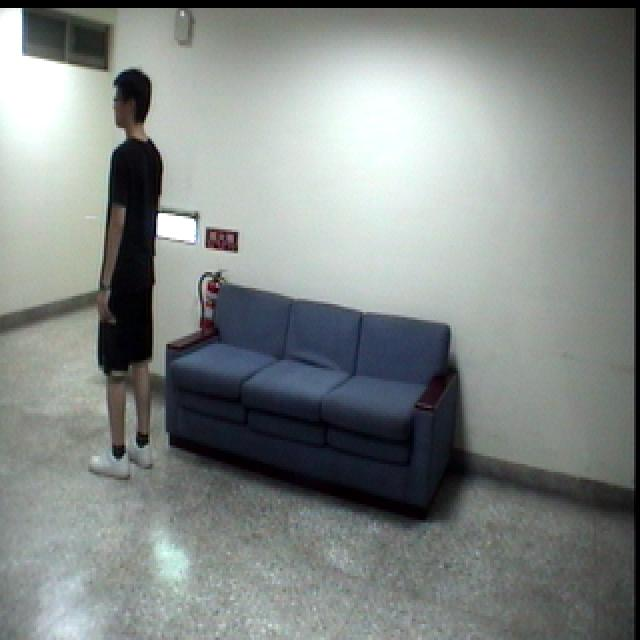stand: (68, 62, 167, 498)
